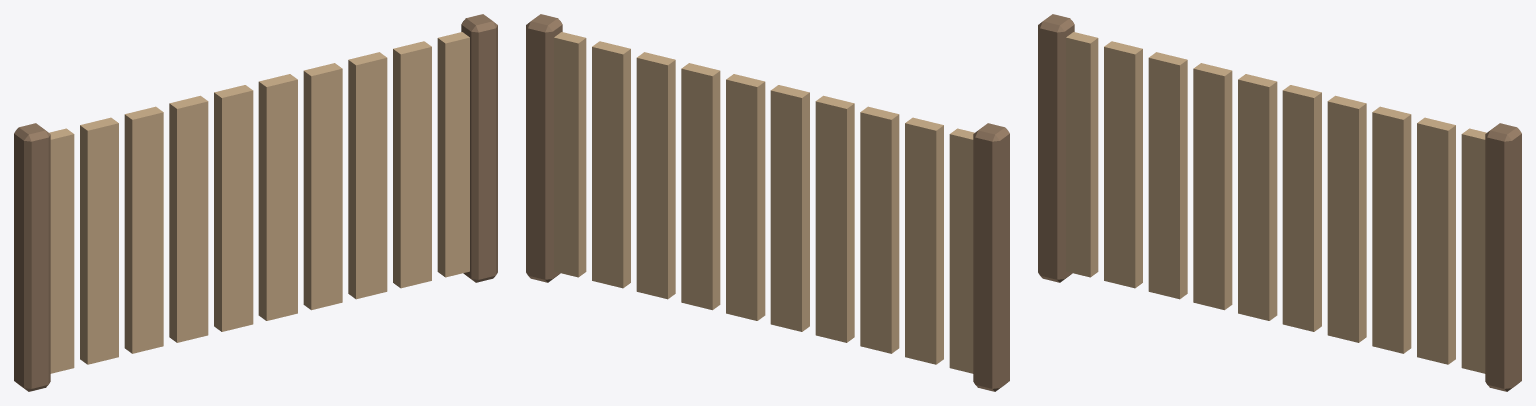
The model's file is feudal-japan-castle-town-wooden-fence-3e07dc8a__26330.glb.
The picture shows the model from 3 angles, left to right: view 1: azimuth 30°, elevation 25°; view 2: azimuth 150°, elevation 25°; view 3: azimuth 330°, elevation 25°; orthographic projection.
Parts seen in each view (by area): view 1: wooden-fence; view 2: wooden-fence; view 3: wooden-fence.
Part boxes in pixels (<box>): wooden-fence: <box>14,14,497,391</box>; wooden-fence: <box>526,14,1009,391</box>; wooden-fence: <box>1038,14,1521,391</box>.
Size of the model in its own units: 2.12 by 1.1 by 0.1201.
